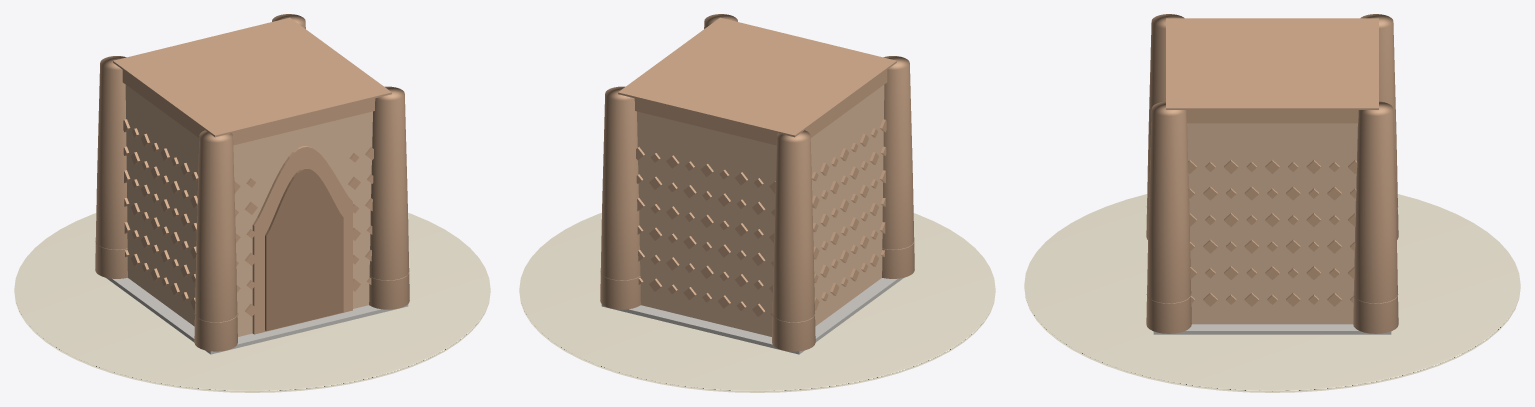
File: aisha-bibi.glb
3 renders of one model, left to right at view 1: azimuth 30°, elevation 25°; view 2: azimuth 150°, elevation 25°; view 3: azimuth 270°, elevation 25°, orthographic. The views are drawn at different scales.
Parts seen in each view (by area): view 1: ground, column (×3), walls, frieze, portal, portal-frame, plinth; view 2: ground, walls, column (×3), frieze, plinth; view 3: ground, walls, column (×4), frieze, plinth.
Boxes of the visible parts, left/top/right/bottom form: ground: left=14, top=213, right=490, bottom=392; column (×3): left=95, top=56, right=409, bottom=351; walls: left=125, top=85, right=372, bottom=336; frieze: left=113, top=17, right=391, bottom=145; portal: left=265, top=167, right=343, bottom=331; portal-frame: left=252, top=146, right=352, bottom=334; plinth: left=106, top=278, right=408, bottom=354; ground: left=519, top=213, right=995, bottom=392; walls: left=637, top=85, right=884, bottom=336; column (×3): left=600, top=56, right=914, bottom=351; frieze: left=618, top=17, right=896, bottom=145; plinth: left=601, top=278, right=903, bottom=354; ground: left=1024, top=194, right=1520, bottom=392; walls: left=1187, top=123, right=1357, bottom=324; column (×4): left=1146, top=14, right=1398, bottom=333; frieze: left=1166, top=18, right=1378, bottom=123; plinth: left=1153, top=324, right=1391, bottom=334.
Bounding box in the file's own units: 4.8 × 2.4 × 4.8.
